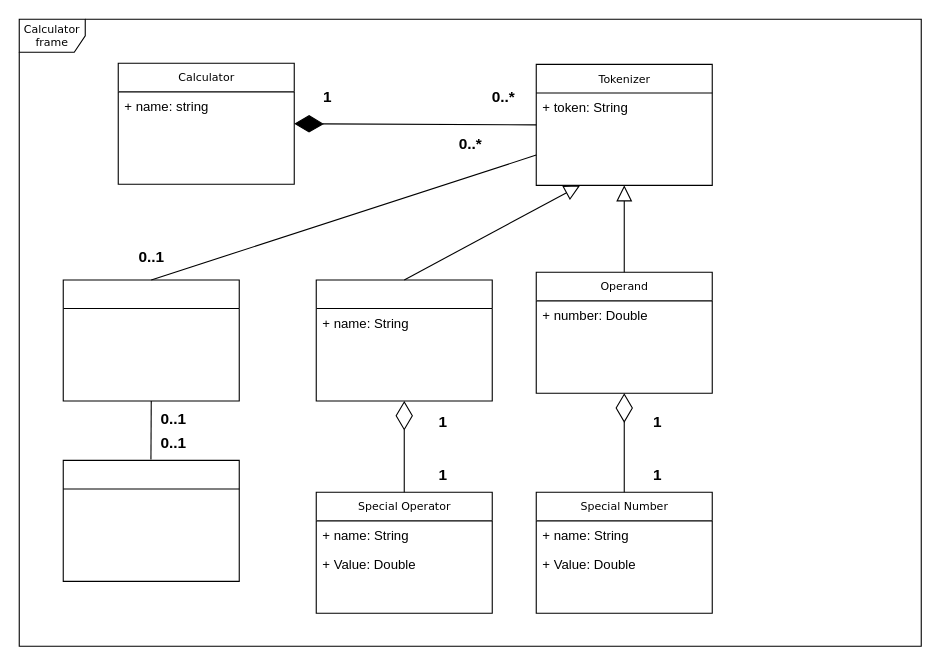
Image size: 941x666. Some labels were removed from this diagram. The box of each missing label's shape, as (x1, y1, x2, y2) in pixels:
Calculate Expression: (62, 279, 239, 401)
Display Message: (62, 459, 239, 581)
Operator: (315, 279, 492, 401)
